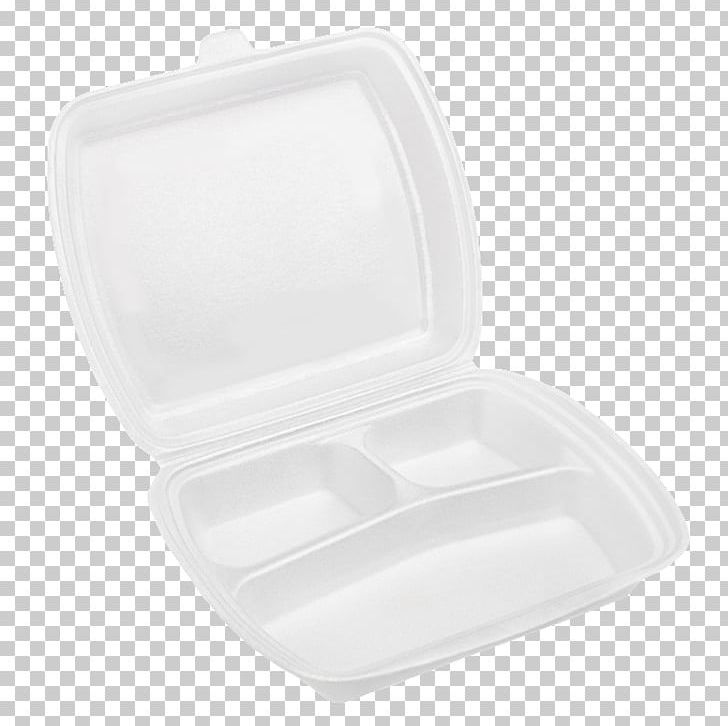Foam Box: (39, 25, 694, 695)
